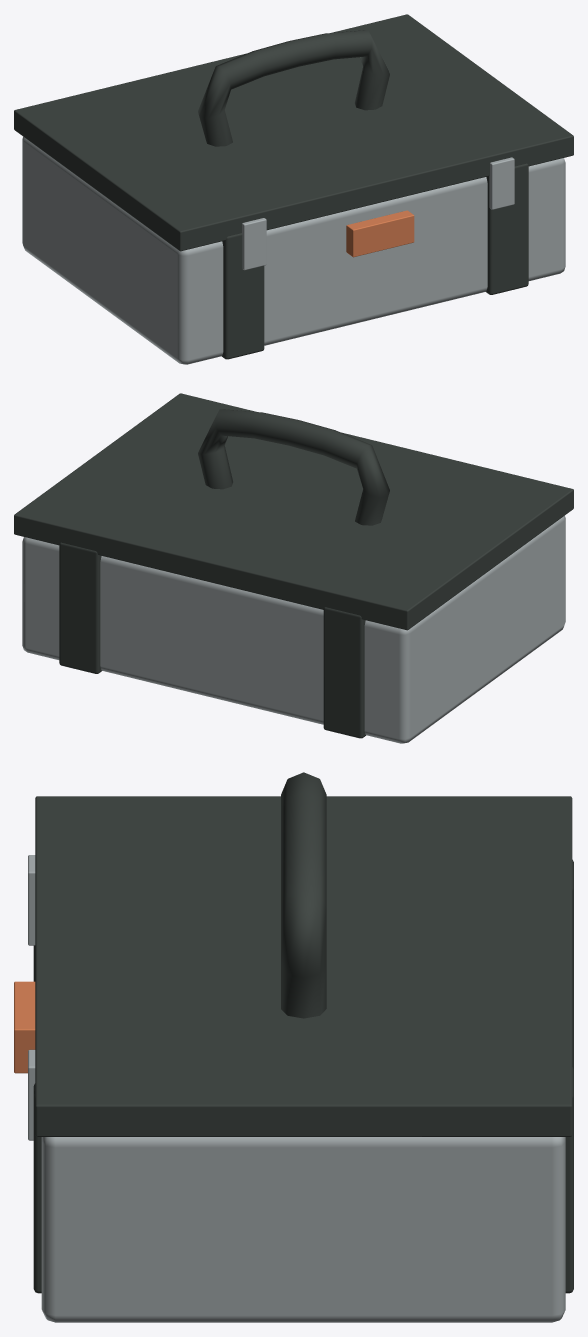
Rendered from briefcase.glb.
3 renders of one model, top to bottom at view 1: azimuth 30°, elevation 25°; view 2: azimuth 150°, elevation 25°; view 3: azimuth 270°, elevation 25°, orthographic. The views are drawn at different scales.
Visible parts, largest first — view 1: objective-briefcase, lid/dark; view 2: objective-briefcase, lid/dark; view 3: lid/dark, objective-briefcase.
Boxes of the visible parts, x1,y1,x2,y2 form: objective-briefcase: [22, 30, 565, 364]; lid/dark: [14, 14, 573, 251]; objective-briefcase: [22, 409, 565, 743]; lid/dark: [14, 393, 573, 630]; lid/dark: [35, 796, 572, 1136]; objective-briefcase: [14, 772, 573, 1322].
Size of the model in its own units: 0.448 by 0.2408 by 0.342.
